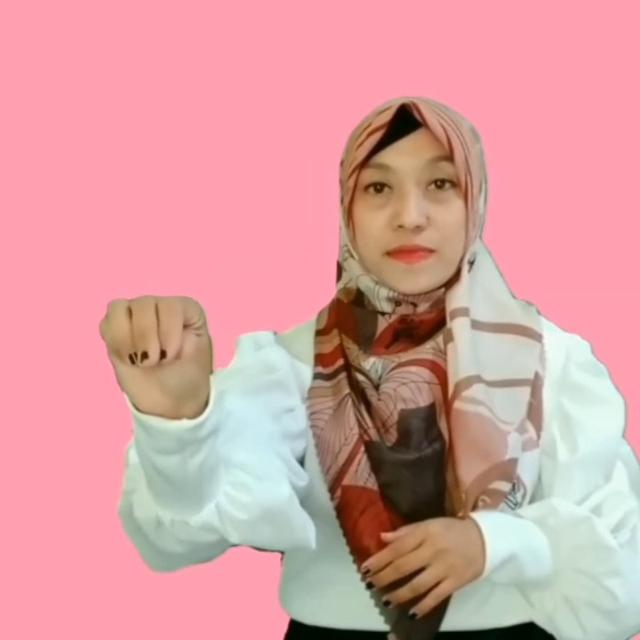M: (97, 294, 211, 404)
